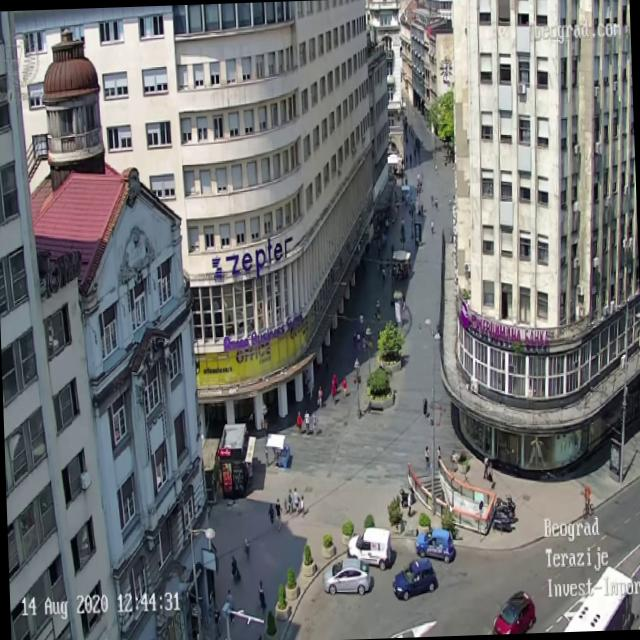bus: (558, 564, 632, 632)
car: (343, 525, 389, 574), (390, 556, 438, 600), (322, 556, 371, 596), (492, 590, 536, 634), (417, 526, 455, 566)
